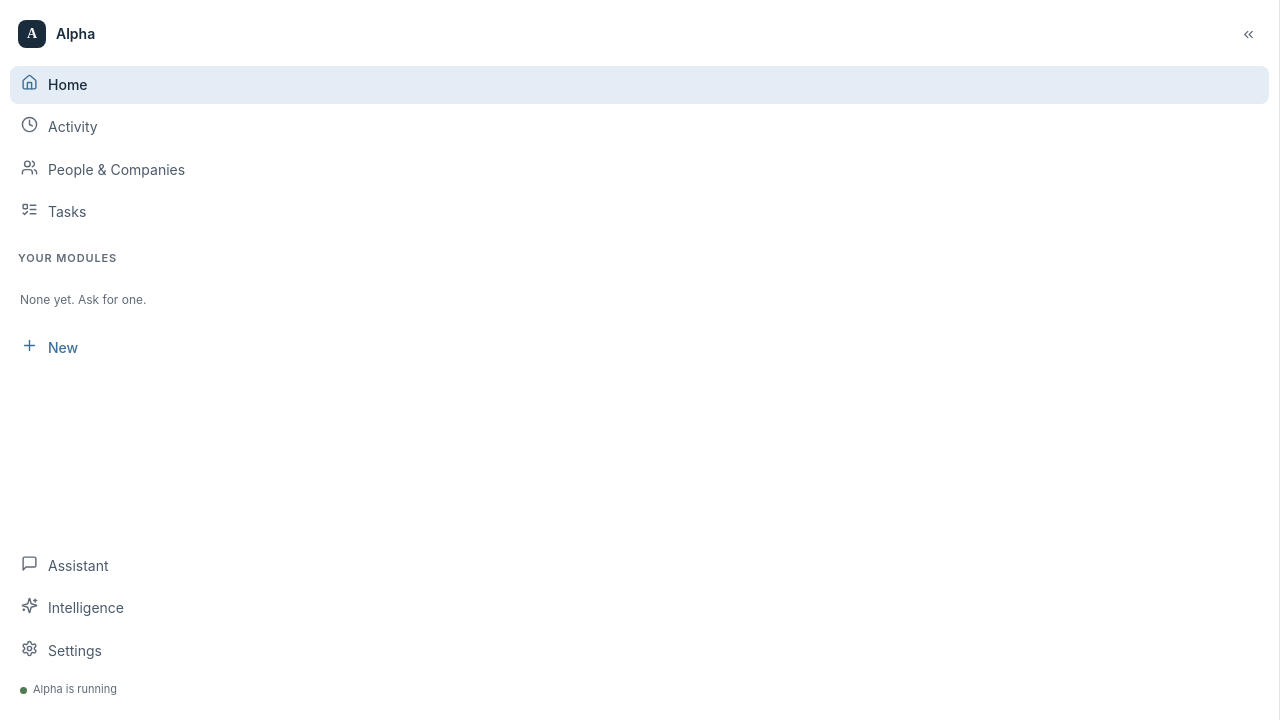
the sidebar's own arrangement › renames the workspace on a double-click, and says Alpha when it has no name
The image size is (1280, 720).
Double-click the text "Alpha" at [76, 33], box [56,25,95,42]
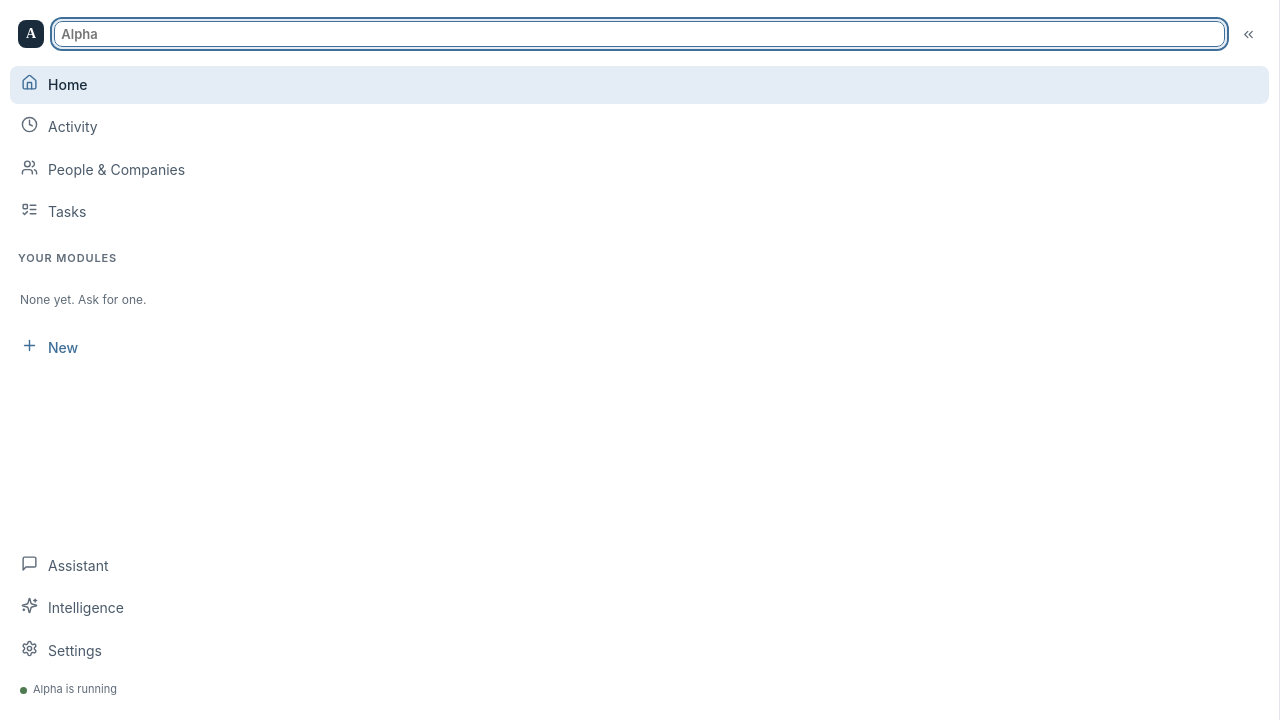
Type "Kenil's brain" into the field named "The workspace's name" at [640, 34], box [54,21,1225,47]
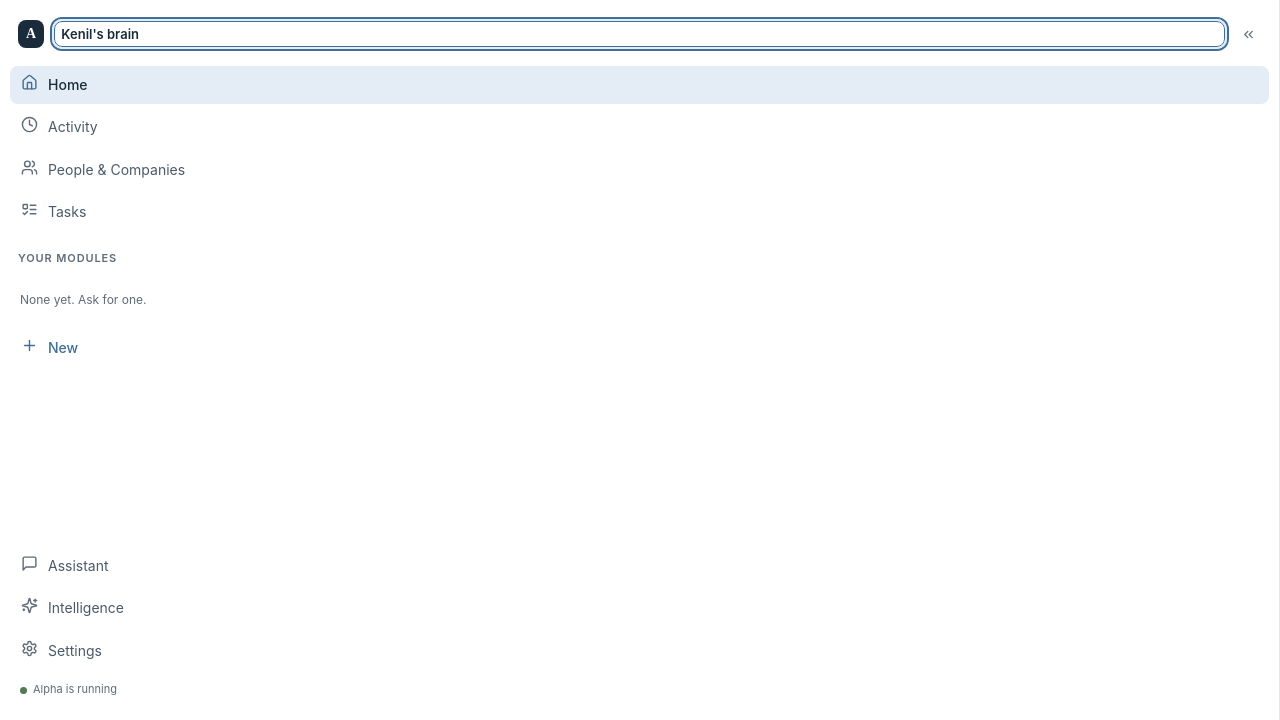
Press Enter in the field named "The workspace's name", box [54,21,1225,47]
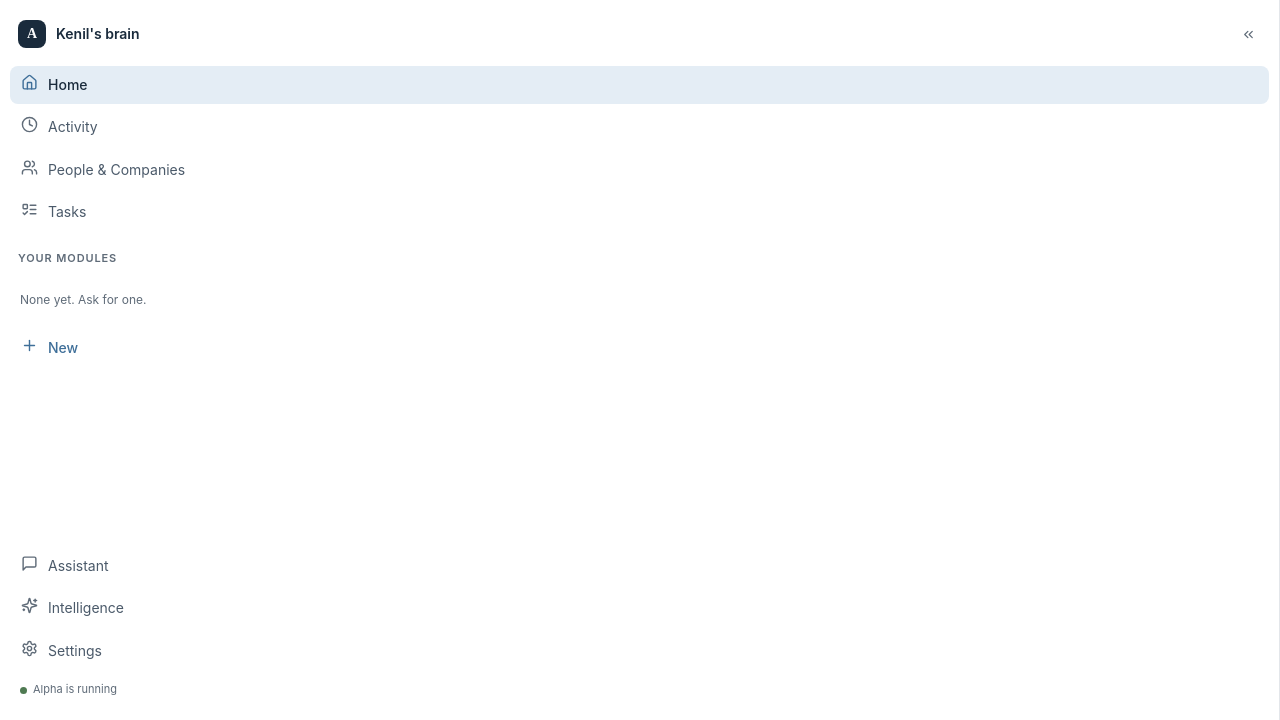
Expected: the text "Kenil's brain" is shown
Double-click the text "Kenil's brain" at [98, 33], box [56,25,140,42]
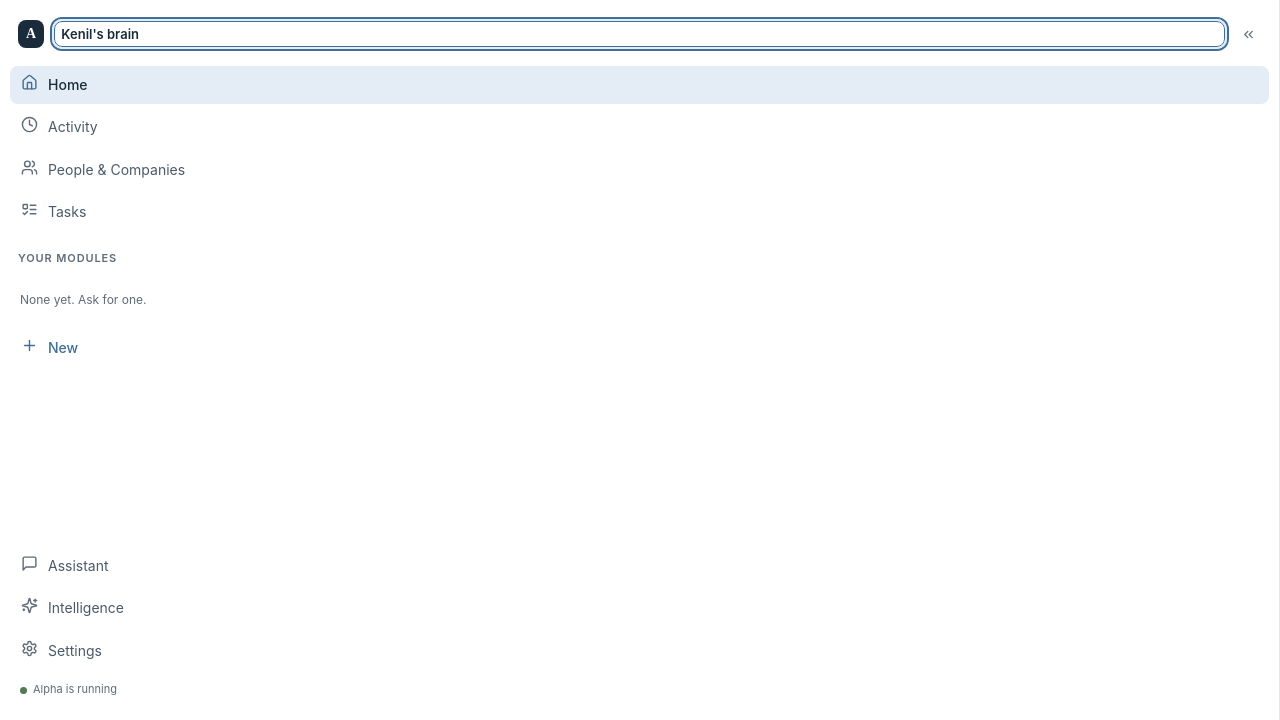
Press Escape in the field named "The workspace's name", box [54,21,1225,47]
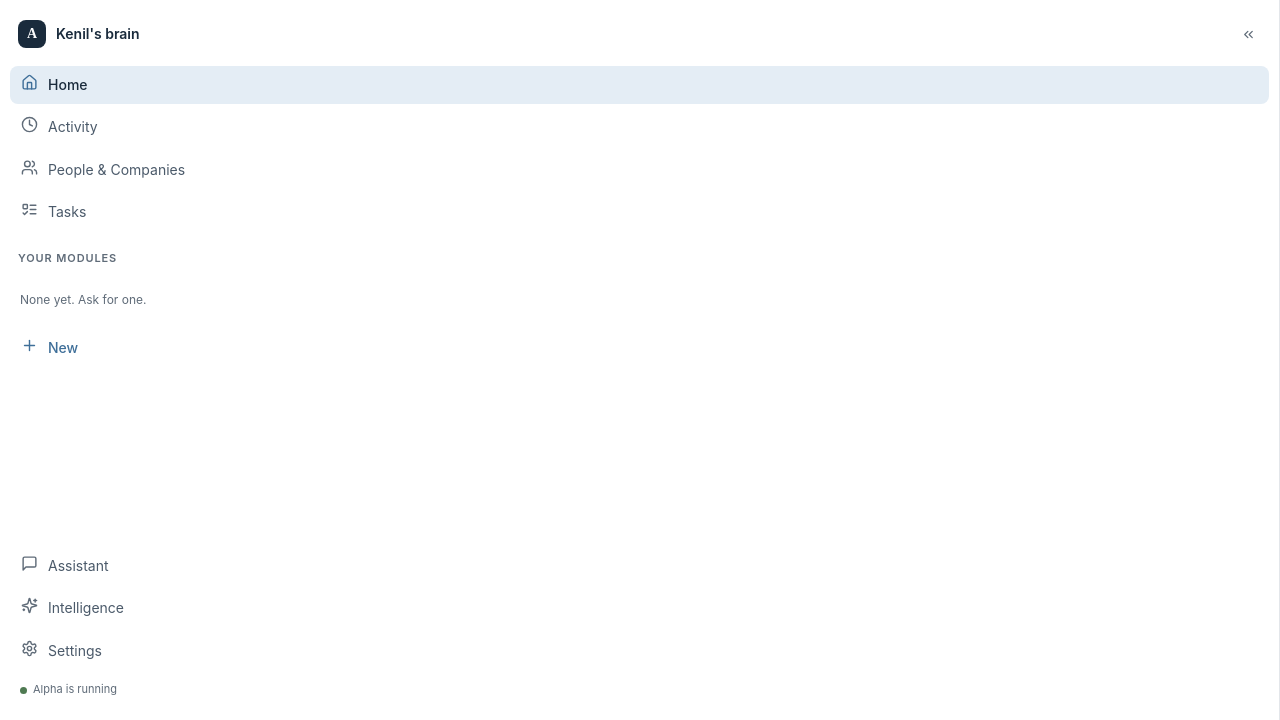
Expected: the text "Kenil's brain" is shown, [56,25,140,42]
